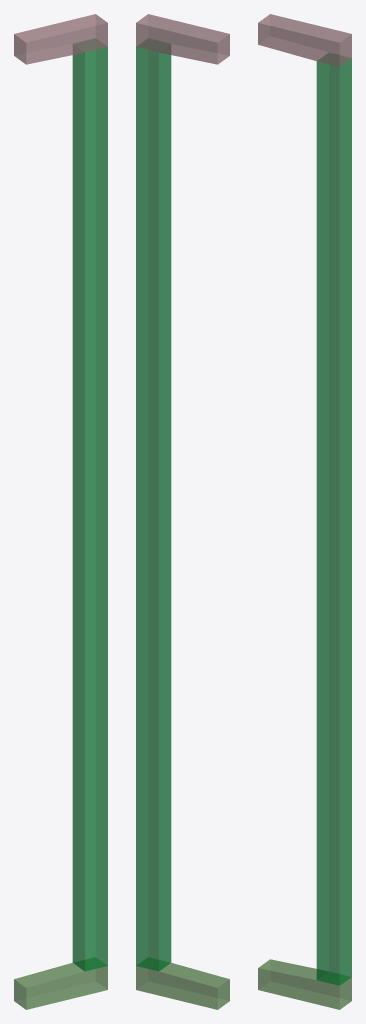
File: SinkAreaBigHandle.obj
3 views of the same model, side by side, from view 1: azimuth 30°, elevation 25°; view 2: azimuth 150°, elevation 25°; view 3: azimuth 330°, elevation 25° (orthographic).
Parts seen in each view (by area): view 1: Shape_IndexedFaceSet.001_Shape_IndexedFaceSet.007; view 2: Shape_IndexedFaceSet.001_Shape_IndexedFaceSet.007; view 3: Shape_IndexedFaceSet.001_Shape_IndexedFaceSet.007.
Boxes of the visible parts, bbox=[...] form: Shape_IndexedFaceSet.001_Shape_IndexedFaceSet.007: bbox=[14, 14, 107, 1009]; Shape_IndexedFaceSet.001_Shape_IndexedFaceSet.007: bbox=[136, 14, 229, 1009]; Shape_IndexedFaceSet.001_Shape_IndexedFaceSet.007: bbox=[258, 14, 351, 1009].
Size of the model in its own units: 0.0625 by 0.7066 by 0.016.
